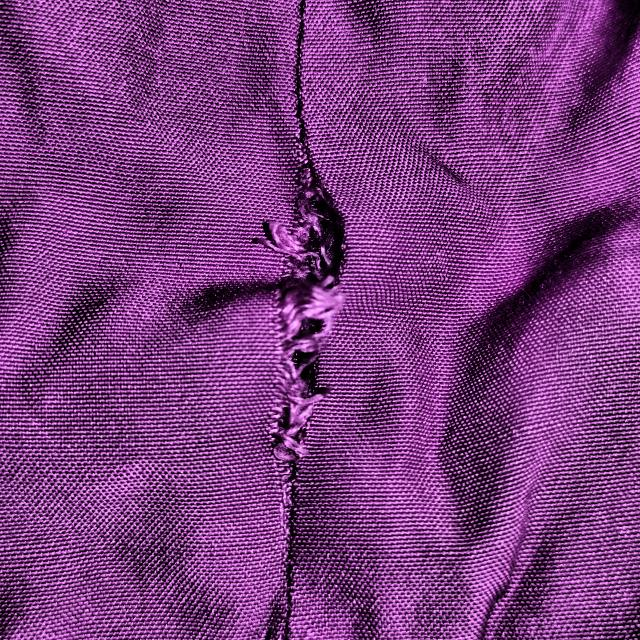seam: (218, 132, 391, 530)
